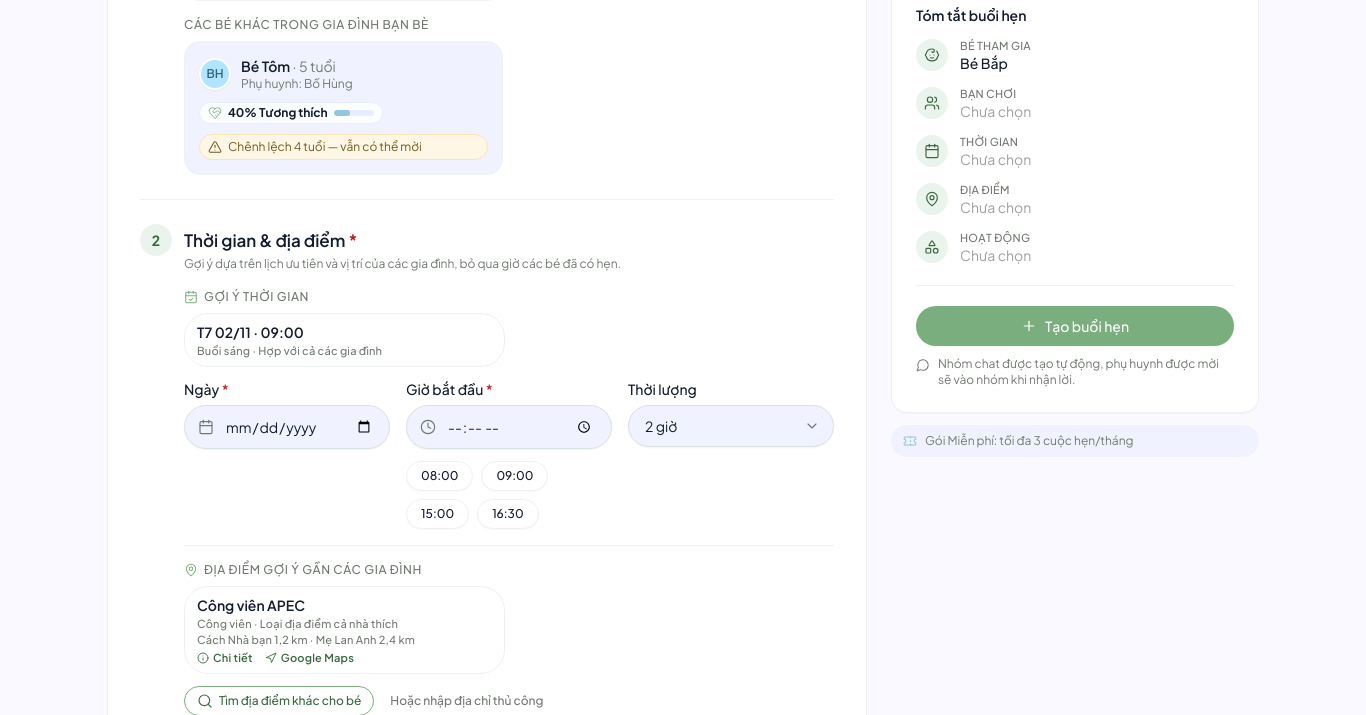
Test: CreatePlaydatePage Component › fills date and time from a suggested slot
The width and height of the screenshot is (1366, 715).
(page scrolled)
Click the button "T7 02/11 · 09:00 Buổi sáng · Hợp với cả các gia đình". click: click(224, 332)
box: [184,313,505,367]
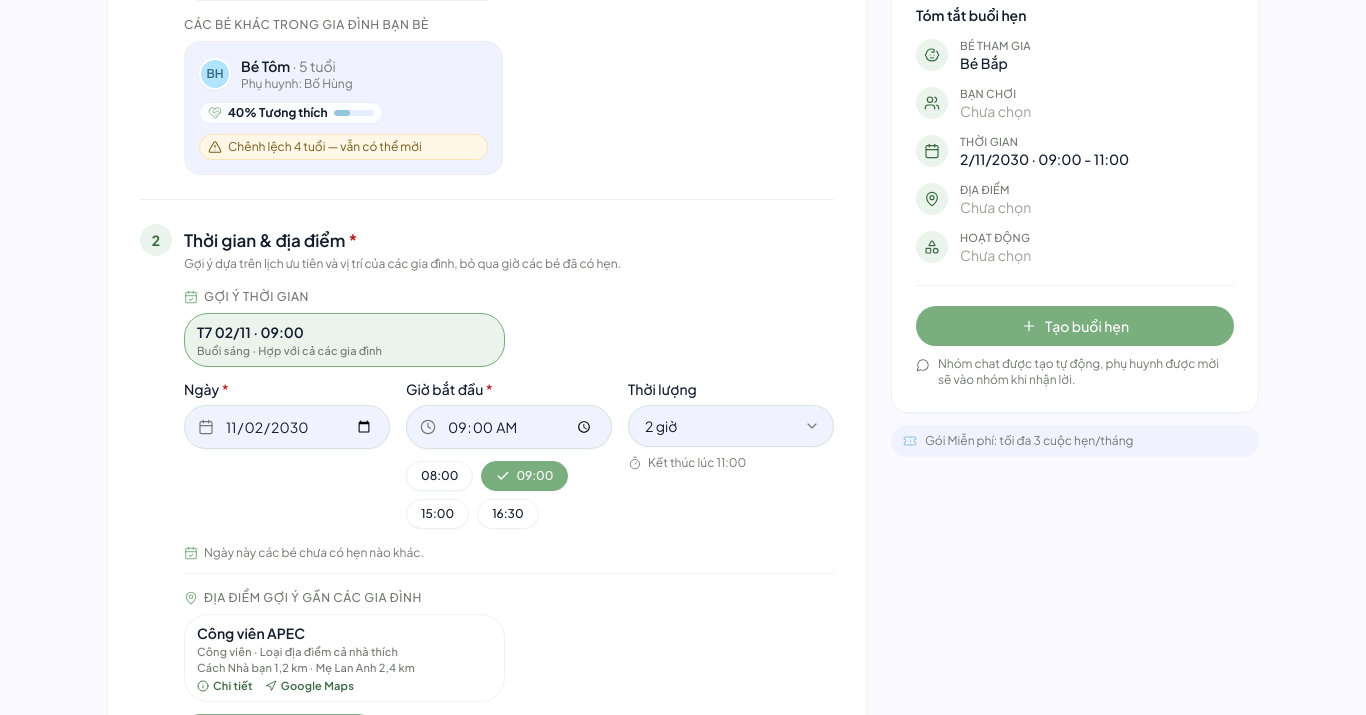
Check: the date field labelled "Ngày *" holds "2030-11-02", box [184,405,390,449]
Check: the time field labelled "Giờ bắt đầu *" holds "09:00", box [406,405,612,449]
Check: the text "Kết thúc lúc 11:00" is shown, box [628,455,746,470]
